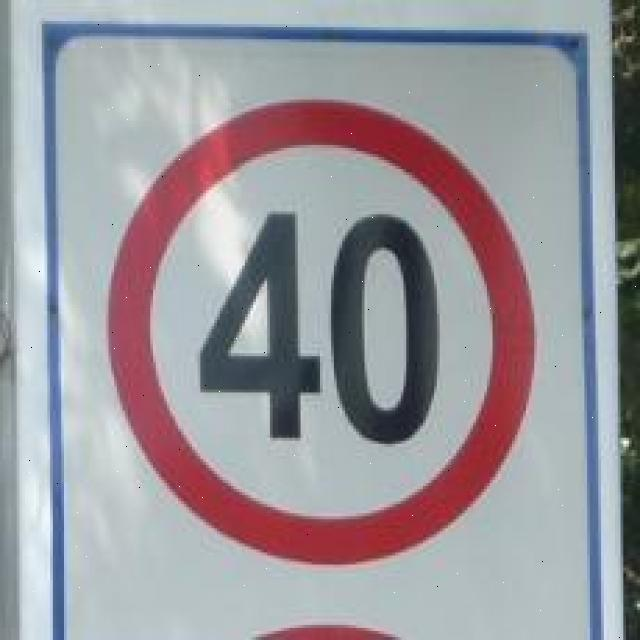speed limit 40: (105, 98, 537, 565)
